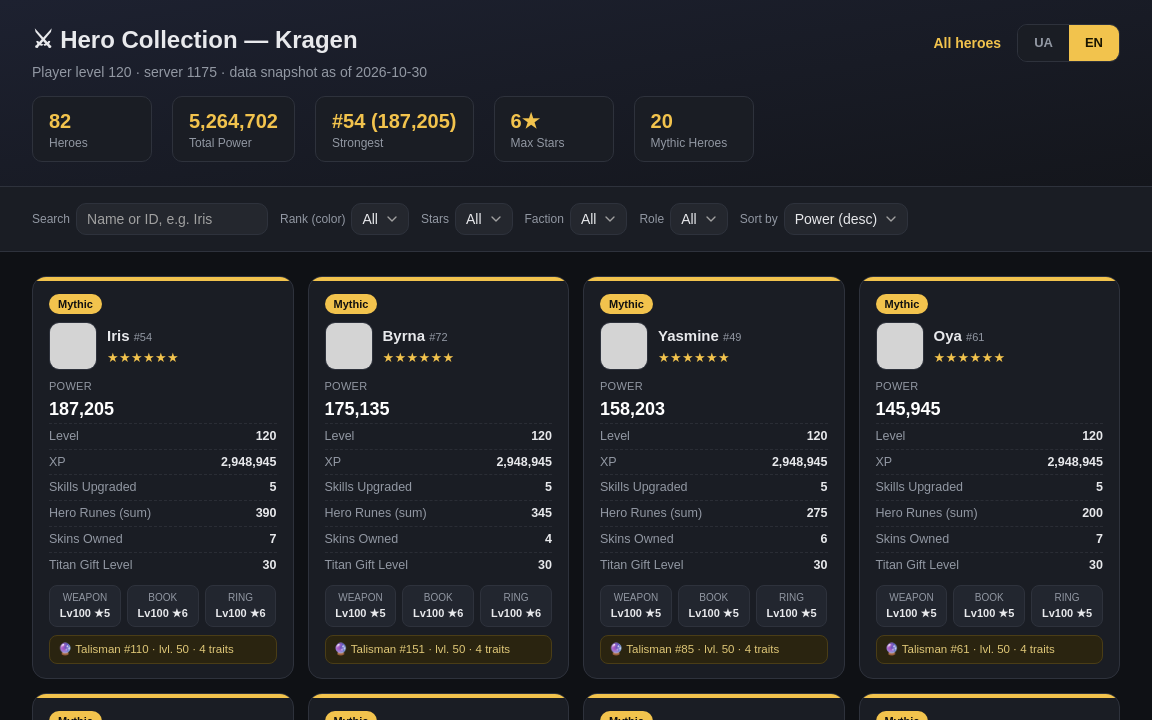
Test: the language switch retranslates the screen
Step 1. Click the button "UA" → click(1044, 43), box [1018,25,1069,60]
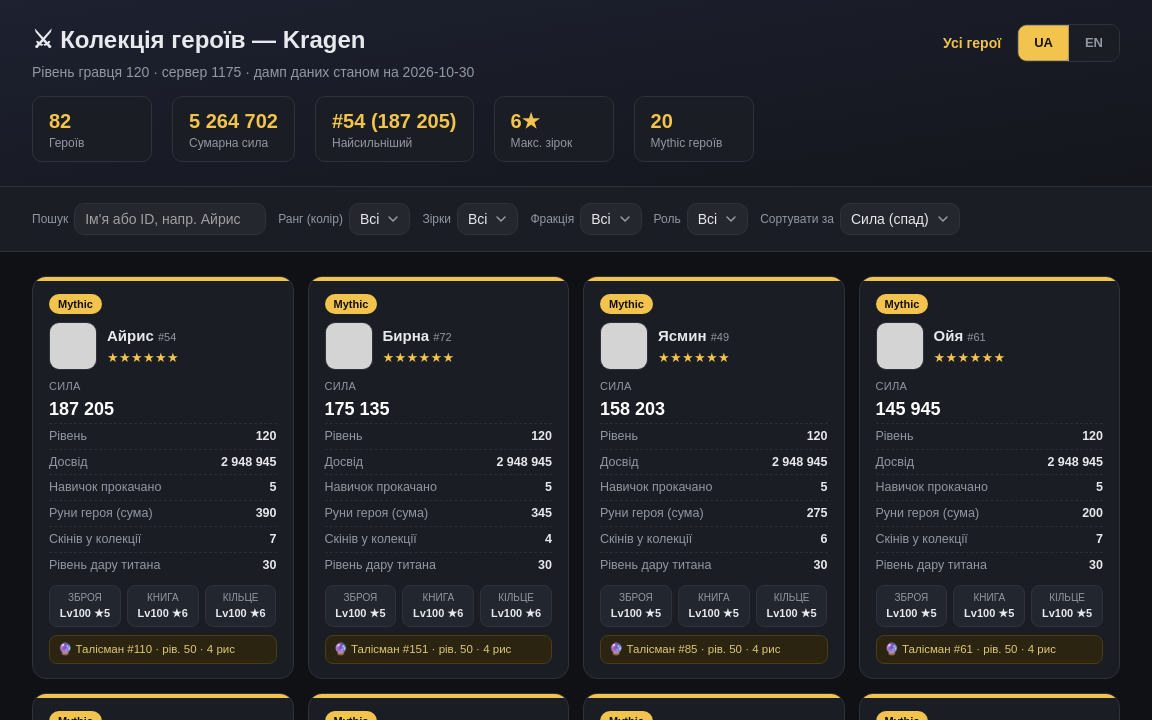
expect the field with placeholder "Ім'я або ID, напр. Айрис" is shown: met, box [74,203,266,235]
expect the heading shows "Колекція героїв — Kragen": met, box [60,26,366,53]
